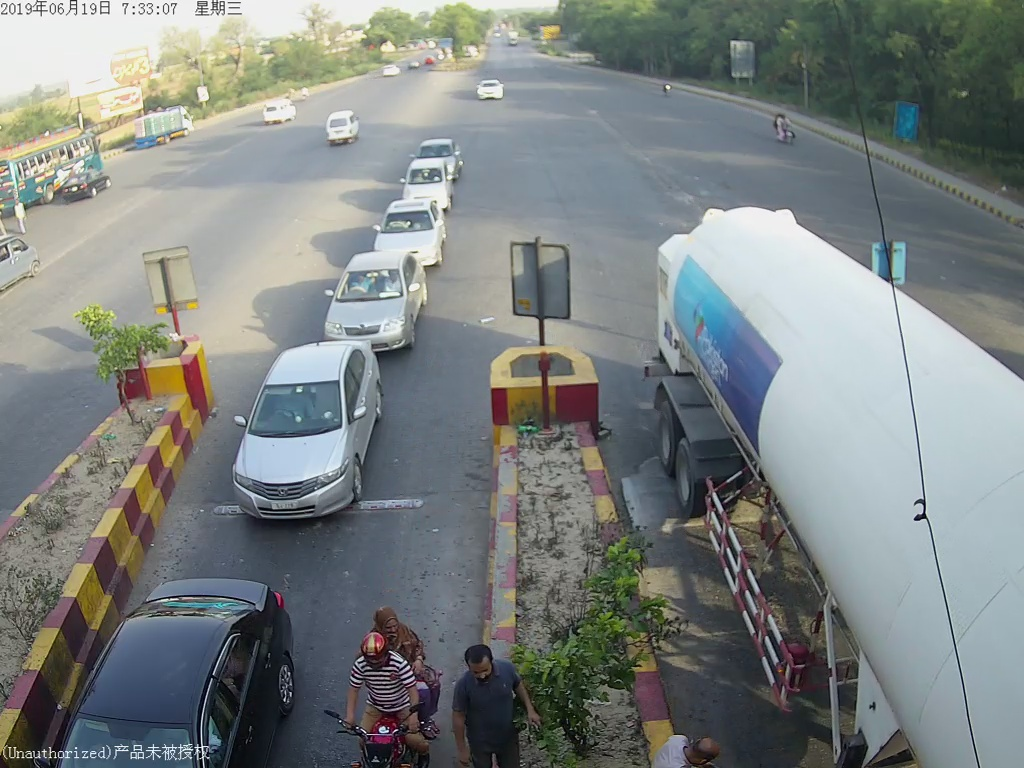Cat-1: (222, 346, 402, 524), (315, 252, 441, 347), (363, 200, 448, 249), (395, 159, 454, 196)
